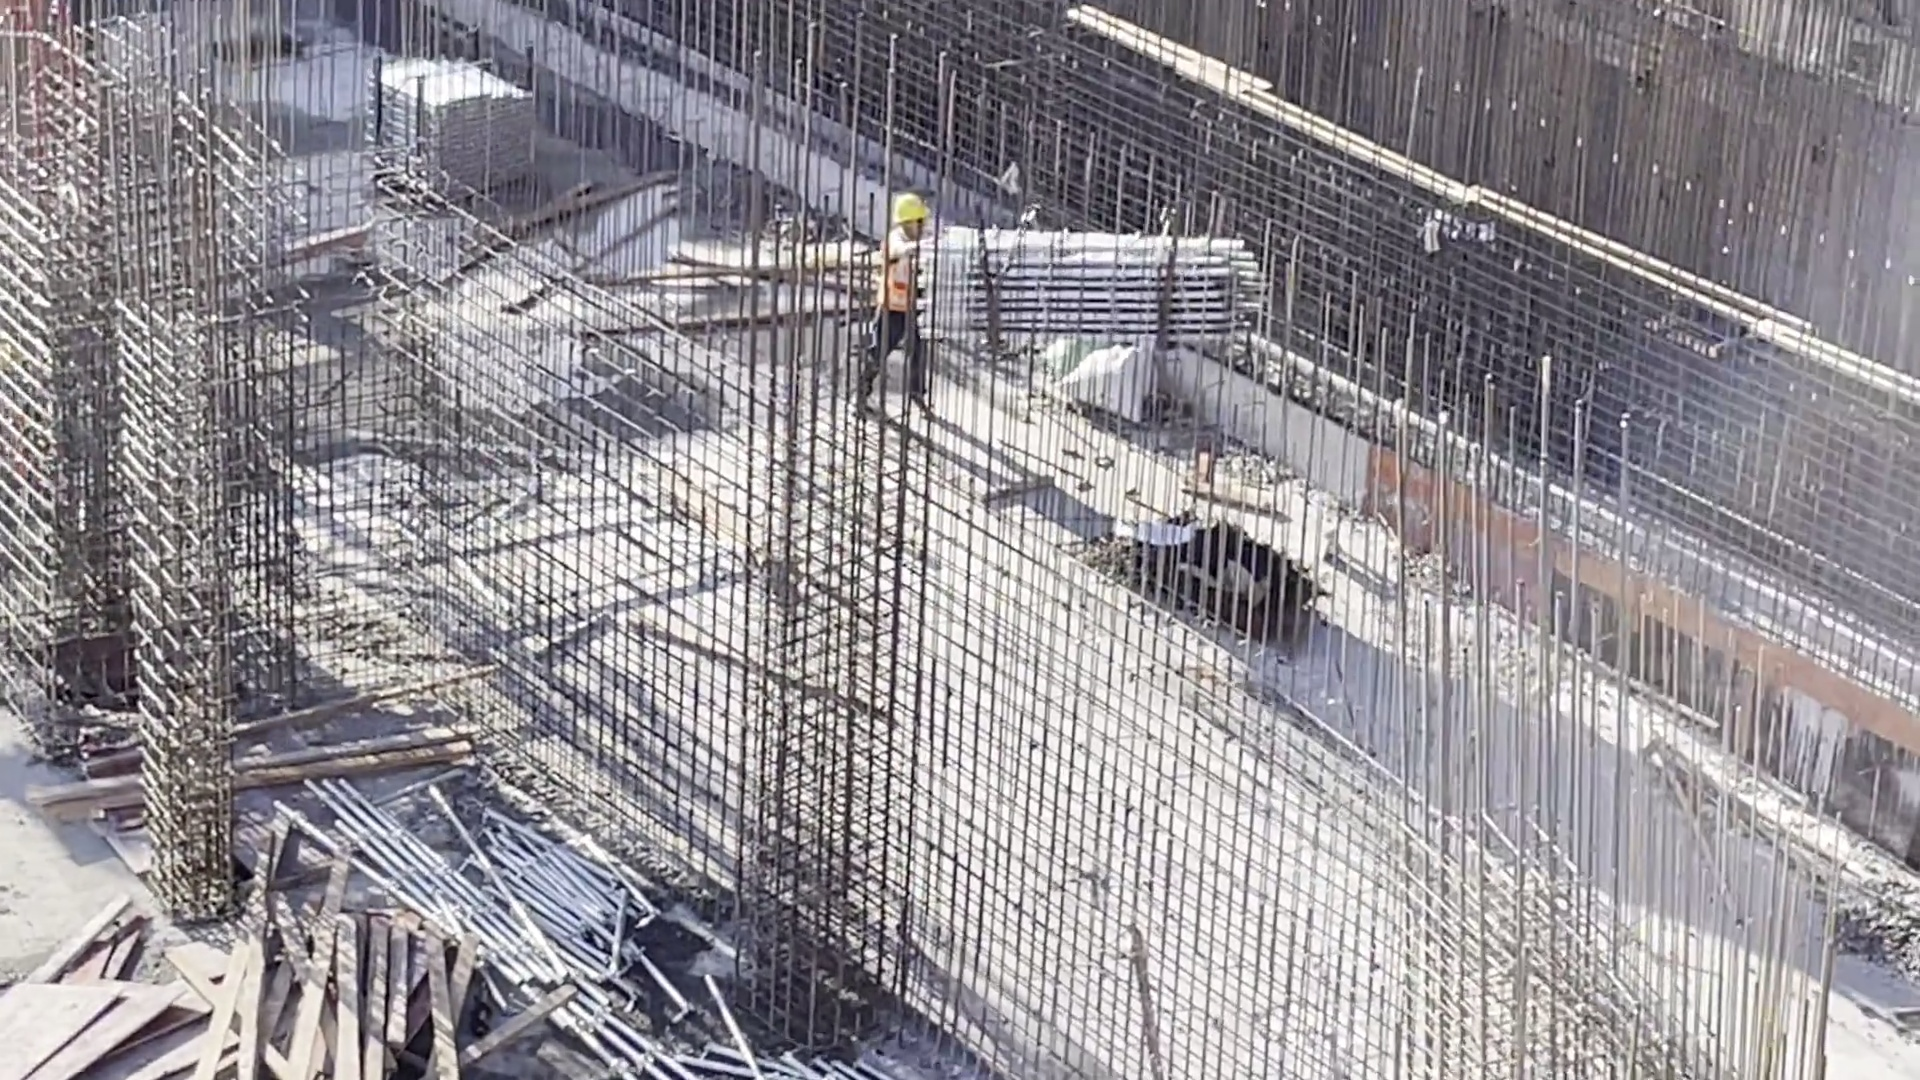board: (1, 985, 210, 1079)
helmet: (897, 190, 936, 217)
person: (870, 197, 949, 409)
scaffold: (930, 213, 1276, 340), (362, 36, 540, 209), (469, 822, 634, 960)
vest: (879, 230, 912, 332)
wood: (204, 857, 475, 1080)
